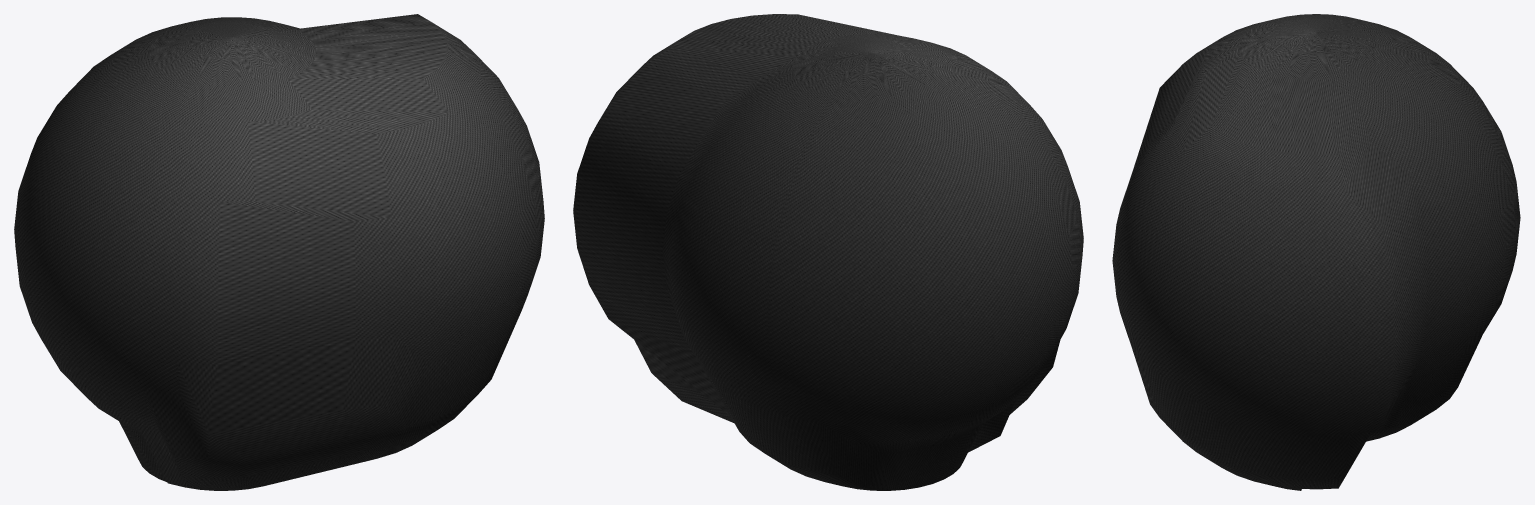
Rendered from Middle meatballs.FBX.
The picture shows the model from 3 angles, left to right: view 1: azimuth 30°, elevation 25°; view 2: azimuth 150°, elevation 25°; view 3: azimuth 270°, elevation 25°; orthographic projection. The views are drawn at different scales.
Visible parts, largest first — view 1: Sphere001; view 2: Sphere001; view 3: Sphere001.
Boxes of the visible parts, x1=… form: Sphere001: x1=14, y1=14, x2=544, y2=490; Sphere001: x1=573, y1=14, x2=1083, y2=490; Sphere001: x1=1112, y1=14, x2=1520, y2=490.
Size of the model in its own units: 9.84 by 8.56 by 7.88.
Materials: 1 (1 with a texture image).
